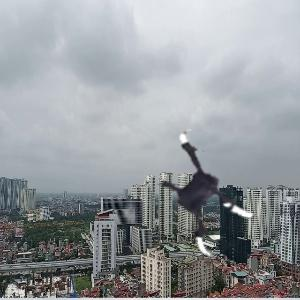drone: (144, 128, 279, 263)
